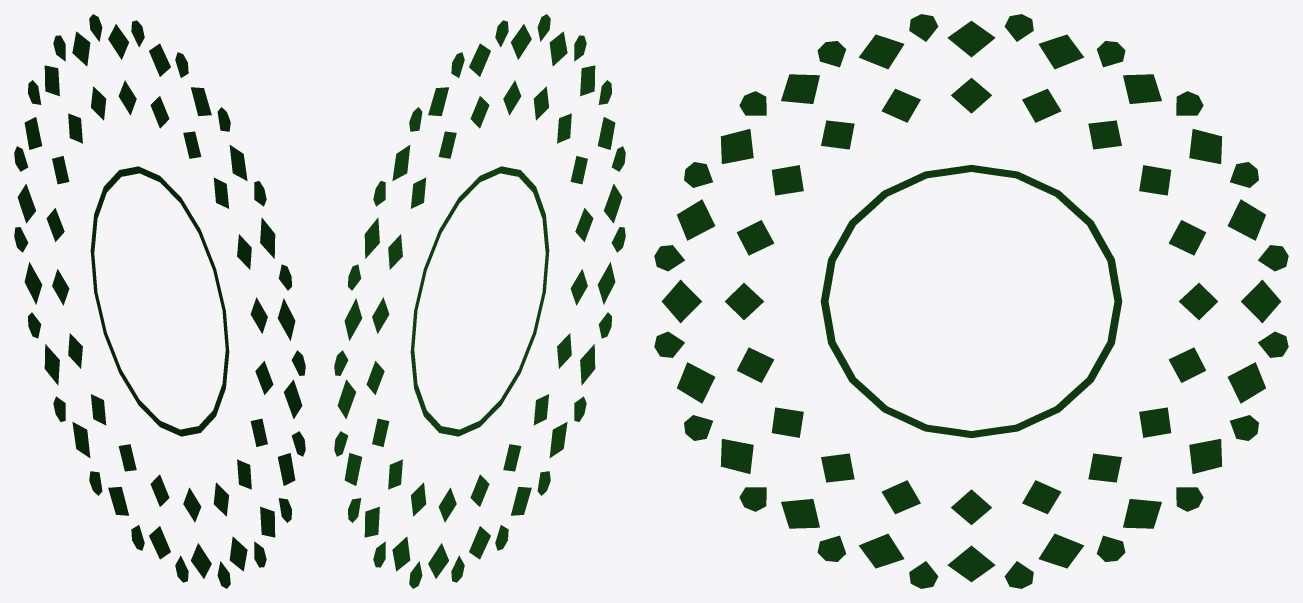
Rendered from staklo_zeleno.obj.
3 renders of one model, left to right at view 1: azimuth 30°, elevation 25°; view 2: azimuth 150°, elevation 25°; view 3: azimuth 270°, elevation 25°, orthographic. The views are drawn at different scales.
Bounding box in the file's own units: 0 × 2.7 × 2.7.
